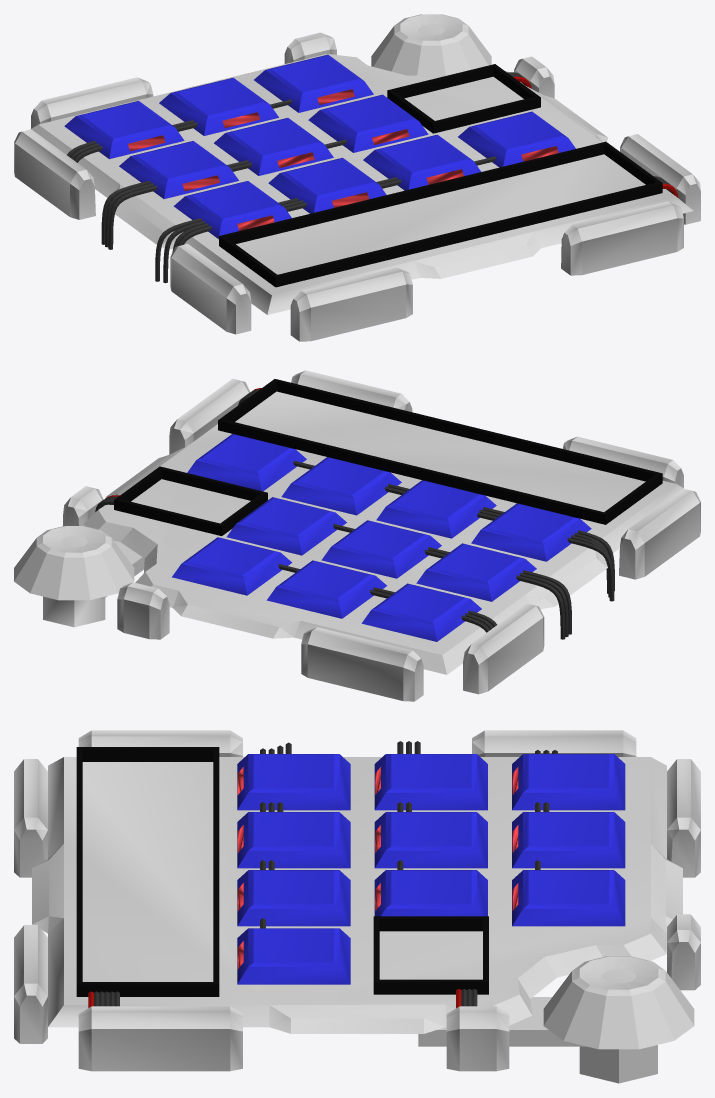
File: Combined Model.fbx
3 views of the same model, one above another, from view 1: azimuth 30°, elevation 25°; view 2: azimuth 150°, elevation 25°; view 3: azimuth 270°, elevation 25° (orthographic). The views are drawn at different scales.
Parts seen in each view (by area): view 1: Background, Button1, Edge.001, LED, NurbsCurve, NurbsCurve.001, NurbsCurve.002; view 2: Background, Button1, Edge.001, NurbsCurve, NurbsCurve.001, NurbsCurve.002; view 3: Background, Button1, Edge.001, LED, NurbsCurve.
Part boxes in pixels (<box>): Background: <box>14,14,700,341</box>; Button1: <box>64,54,575,239</box>; Edge.001: <box>219,64,662,287</box>; LED: <box>128,89,558,230</box>; NurbsCurve: <box>155,156,496,283</box>; NurbsCurve.001: <box>101,139,346,249</box>; NurbsCurve.002: <box>67,99,292,162</box>; Background: <box>14,370,700,701</box>; Button1: <box>172,434,591,641</box>; Edge.001: <box>114,379,662,535</box>; NurbsCurve: <box>293,460,614,601</box>; NurbsCurve.001: <box>333,524,571,639</box>; NurbsCurve.002: <box>278,564,497,632</box>; Background: <box>14,730,700,1083</box>; Button1: <box>237,754,625,984</box>; Edge.001: <box>76,747,488,996</box>; LED: <box>237,767,518,969</box>; NurbsCurve: <box>260,742,291,928</box>.
Bounding box in the file's own units: 200 × 29.93 × 200.
